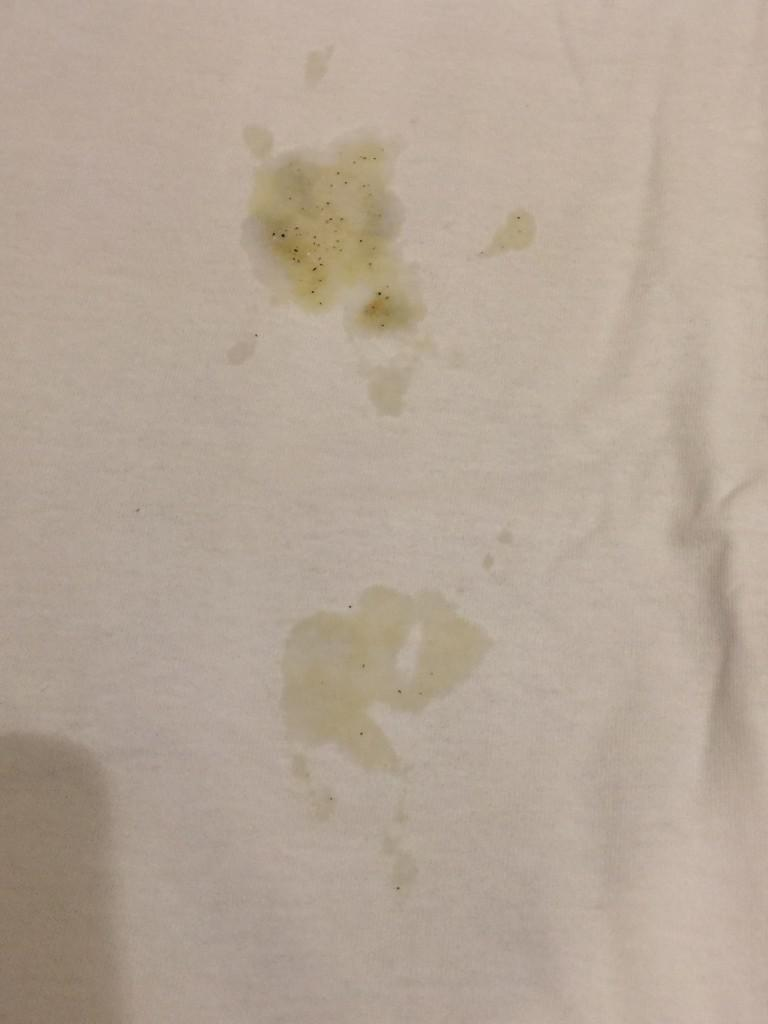gun: (233, 108, 444, 413), (256, 594, 500, 804), (469, 205, 553, 261), (286, 37, 347, 103)
